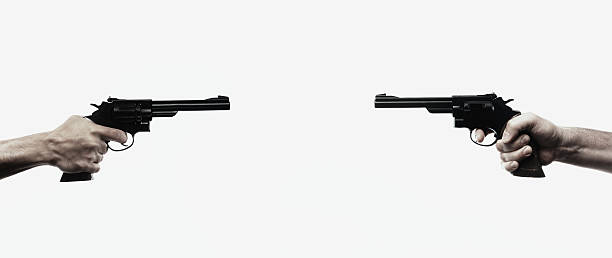pistol: (373, 84, 549, 186), (81, 85, 238, 154)
